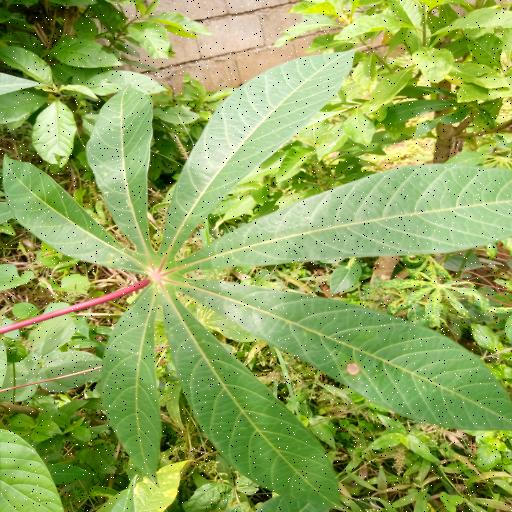Cassava_Healthy: (0, 46, 512, 506)
